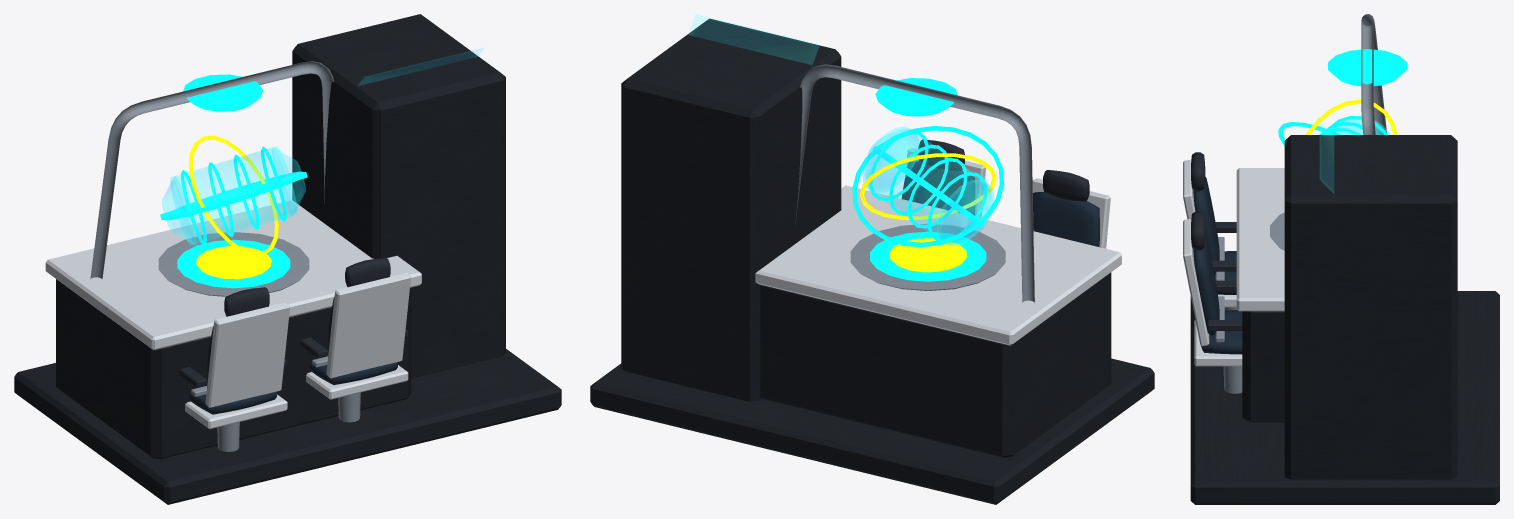
Rendered from bridge_console_r1_03.glb.
3 views of the same model, side by side, from view 1: azimuth 30°, elevation 25°; view 2: azimuth 150°, elevation 25°; view 3: azimuth 270°, elevation 25° (orthographic). The views are drawn at different scales.
Parts seen in each view (by area): view 1: Bridge03_GantryGunmetalHull, Bridge03_WhiteCowlingsAndChairs, Bridge03_MachinedOverheadArchAndThrottles, Bridge03_TranslucentHoloCylinderAndHUD, Bridge03_CyanHoloWireframeAndProjector, Bridge03_AmberGimbalRing, Bridge03_CharcoalBolsters, Bridge03_OrbitalNavyCushions; view 2: Bridge03_GantryGunmetalHull, Bridge03_WhiteCowlingsAndChairs, Bridge03_TranslucentHoloCylinderAndHUD, Bridge03_CyanHoloWireframeAndProjector, Bridge03_MachinedOverheadArchAndThrottles, Bridge03_OrbitalNavyCushions, Bridge03_AmberGimbalRing, Bridge03_CharcoalBolsters; view 3: Bridge03_GantryGunmetalHull, Bridge03_WhiteCowlingsAndChairs, Bridge03_OrbitalNavyCushions, Bridge03_MachinedOverheadArchAndThrottles, Bridge03_CyanHoloWireframeAndProjector, Bridge03_CharcoalBolsters, Bridge03_TranslucentHoloCylinderAndHUD, Bridge03_AmberGimbalRing.
Boxes of the visible parts, x1,y1,x2,y2 form: Bridge03_GantryGunmetalHull: [14, 14, 561, 504]; Bridge03_WhiteCowlingsAndChairs: [45, 200, 421, 429]; Bridge03_MachinedOverheadArchAndThrottles: [90, 61, 360, 451]; Bridge03_TranslucentHoloCylinderAndHUD: [162, 48, 483, 245]; Bridge03_CyanHoloWireframeAndProjector: [160, 74, 307, 288]; Bridge03_AmberGimbalRing: [188, 135, 278, 279]; Bridge03_CharcoalBolsters: [179, 258, 407, 387]; Bridge03_OrbitalNavyCushions: [189, 297, 397, 414]; Bridge03_GantryGunmetalHull: [590, 18, 1154, 504]; Bridge03_WhiteCowlingsAndChairs: [755, 148, 1121, 345]; Bridge03_TranslucentHoloCylinderAndHUD: [688, 14, 993, 246]; Bridge03_CyanHoloWireframeAndProjector: [852, 78, 1003, 281]; Bridge03_MachinedOverheadArchAndThrottles: [795, 64, 1034, 302]; Bridge03_OrbitalNavyCushions: [901, 161, 1099, 246]; Bridge03_AmberGimbalRing: [860, 153, 996, 272]; Bridge03_CharcoalBolsters: [918, 139, 1089, 201]; Bridge03_GantryGunmetalHull: [1190, 135, 1499, 504]; Bridge03_WhiteCowlingsAndChairs: [1183, 160, 1284, 366]; Bridge03_OrbitalNavyCushions: [1193, 177, 1242, 354]; Bridge03_MachinedOverheadArchAndThrottles: [1215, 14, 1386, 393]; Bridge03_CyanHoloWireframeAndProjector: [1278, 49, 1406, 145]; Bridge03_CharcoalBolsters: [1191, 152, 1242, 330]; Bridge03_TranslucentHoloCylinderAndHUD: [1320, 116, 1389, 192]; Bridge03_AmberGimbalRing: [1305, 99, 1397, 134].
Bounding box in the file's own units: 2.5 × 1.95 × 1.72.
Materials: 11 (11 with a texture image).
